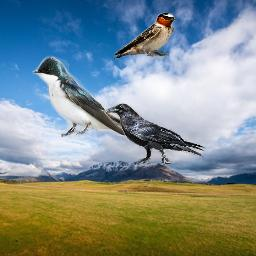Crow: (105, 103, 210, 167)
Swallow: (32, 55, 143, 140), (113, 12, 175, 59)
